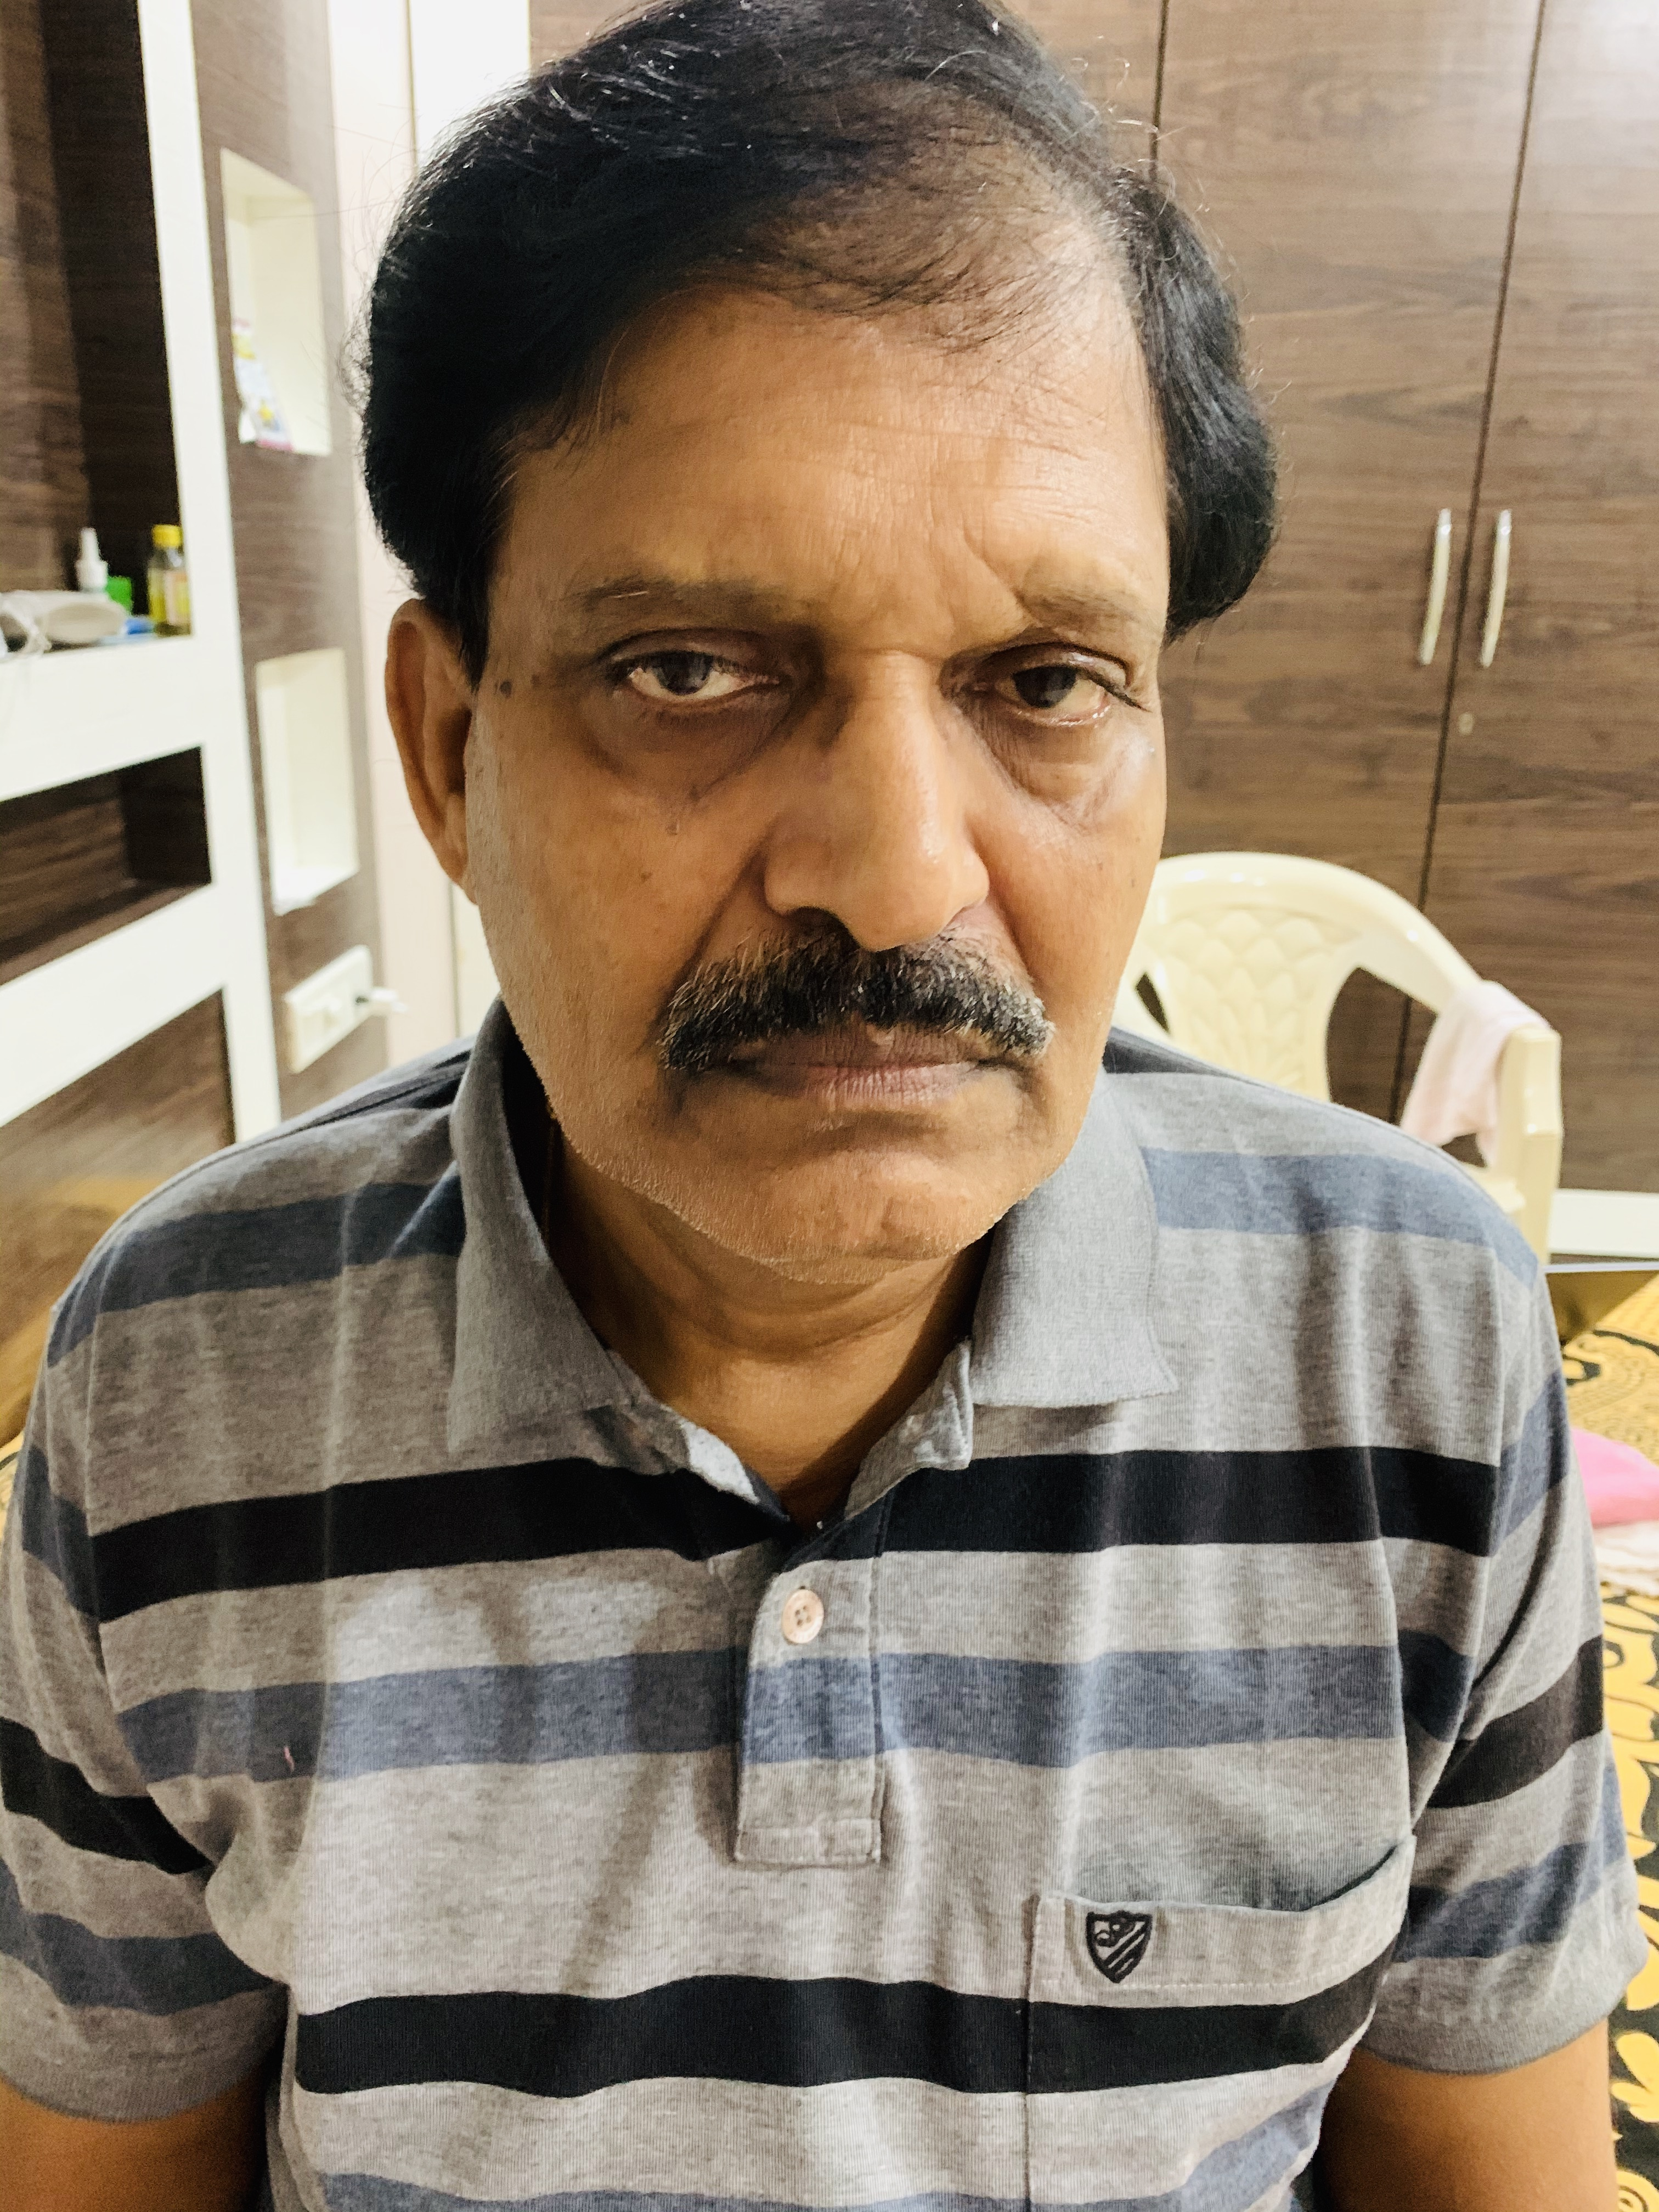Not Sleeping: (528, 589, 1152, 782)
